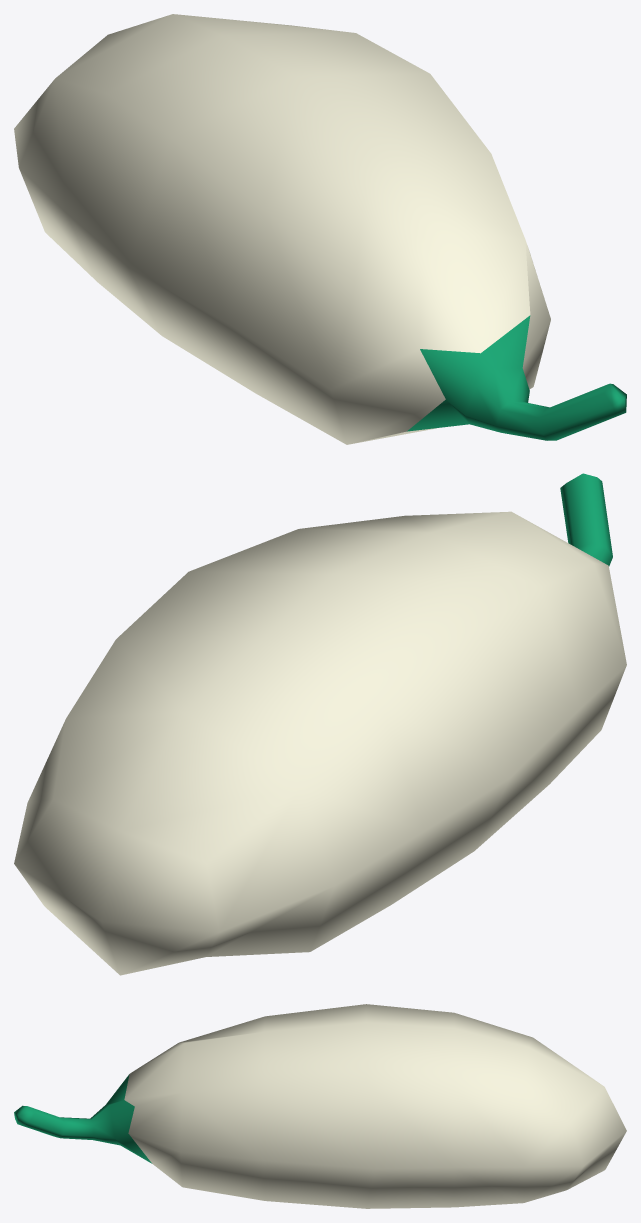
The model's file is Radish.fbx.
3 renders of one model, top to bottom at view 1: azimuth 30°, elevation 25°; view 2: azimuth 150°, elevation 25°; view 3: azimuth 270°, elevation 25°, orthographic. The views are drawn at different scales.
Parts seen in each view (by area): view 1: Radish; view 2: Radish; view 3: Radish.
Part boxes in pixels (x1=…): Radish: x1=14, y1=14, x2=626, y2=444; Radish: x1=14, y1=473, x2=626, y2=975; Radish: x1=14, y1=1004, x2=626, y2=1208.
Bounding box in the file's own units: 18.99 × 12.79 × 47.33.
